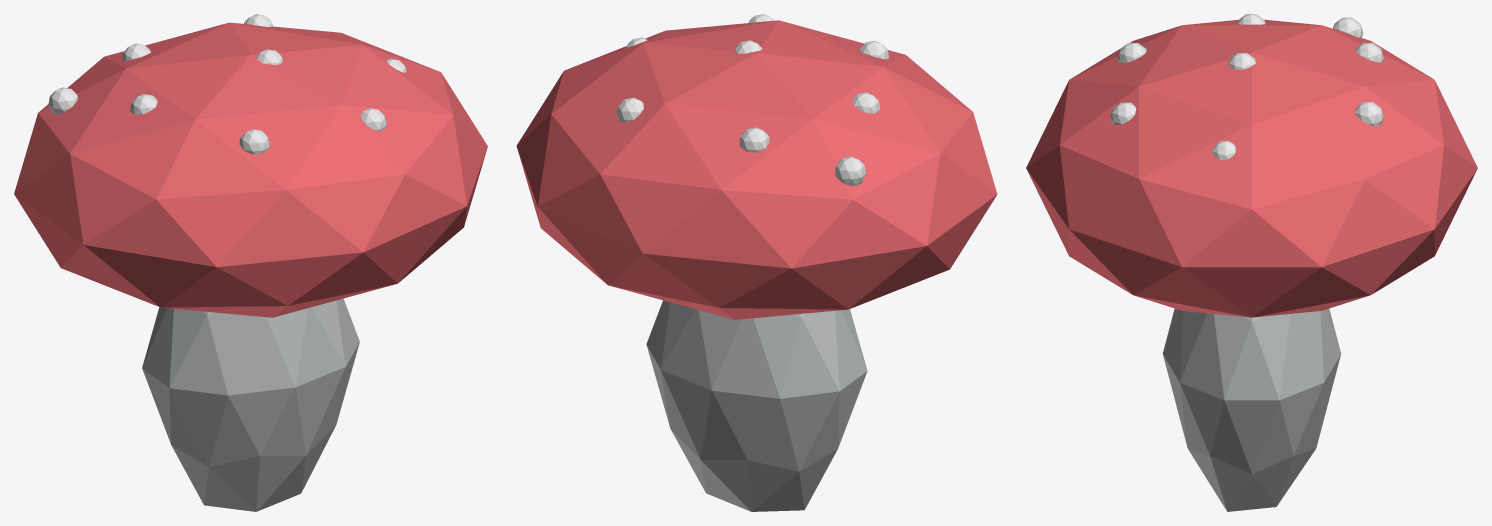
File: mushroomblend.fbx
The picture shows the model from 3 angles, left to right: view 1: azimuth 30°, elevation 25°; view 2: azimuth 150°, elevation 25°; view 3: azimuth 270°, elevation 25°; orthographic projection.
Parts seen in each view (by area): view 1: Icosphere.001, Icosphere, circles; view 2: Icosphere.001, Icosphere, circles; view 3: Icosphere.001, Icosphere, circles.
Part boxes in pixels (box(x1,y1,x2,y2)): Icosphere.001: box(14, 22, 487, 317); Icosphere: box(142, 298, 359, 511); circles: box(48, 14, 406, 154); Icosphere.001: box(516, 20, 997, 319); Icosphere: box(646, 300, 867, 511); circles: box(616, 14, 888, 185); Icosphere.001: box(1026, 19, 1477, 317); Icosphere: box(1162, 308, 1341, 511); circles: box(1110, 14, 1384, 160).
Size of the model in its own units: 207 by 219 by 199.
